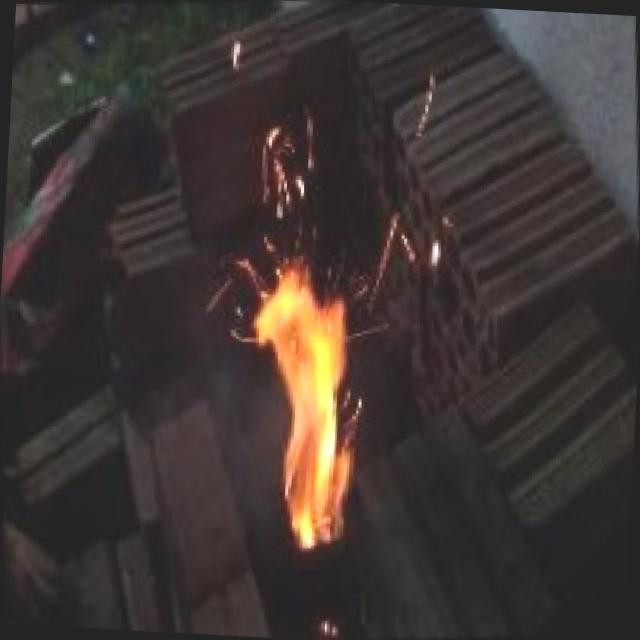fire: (212, 182, 412, 551)
